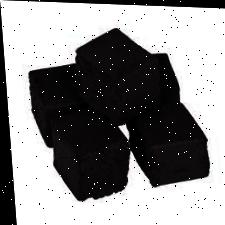cube: (72, 27, 161, 124), (45, 106, 129, 202), (129, 101, 208, 187)
